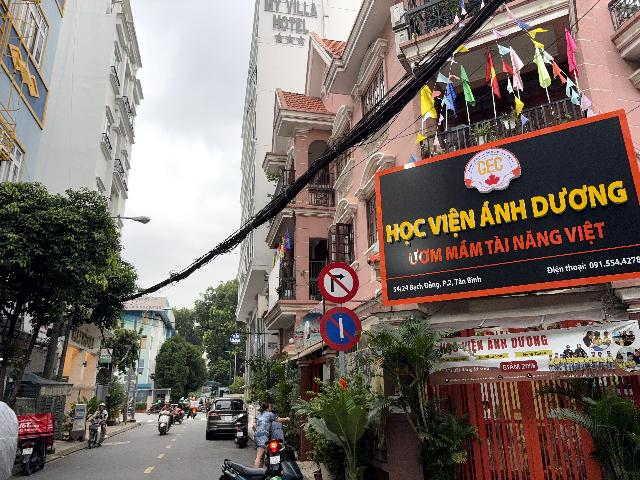cam-do-xe-ngay-le: (320, 307, 362, 351)
cam-re-phai: (318, 262, 359, 303)
